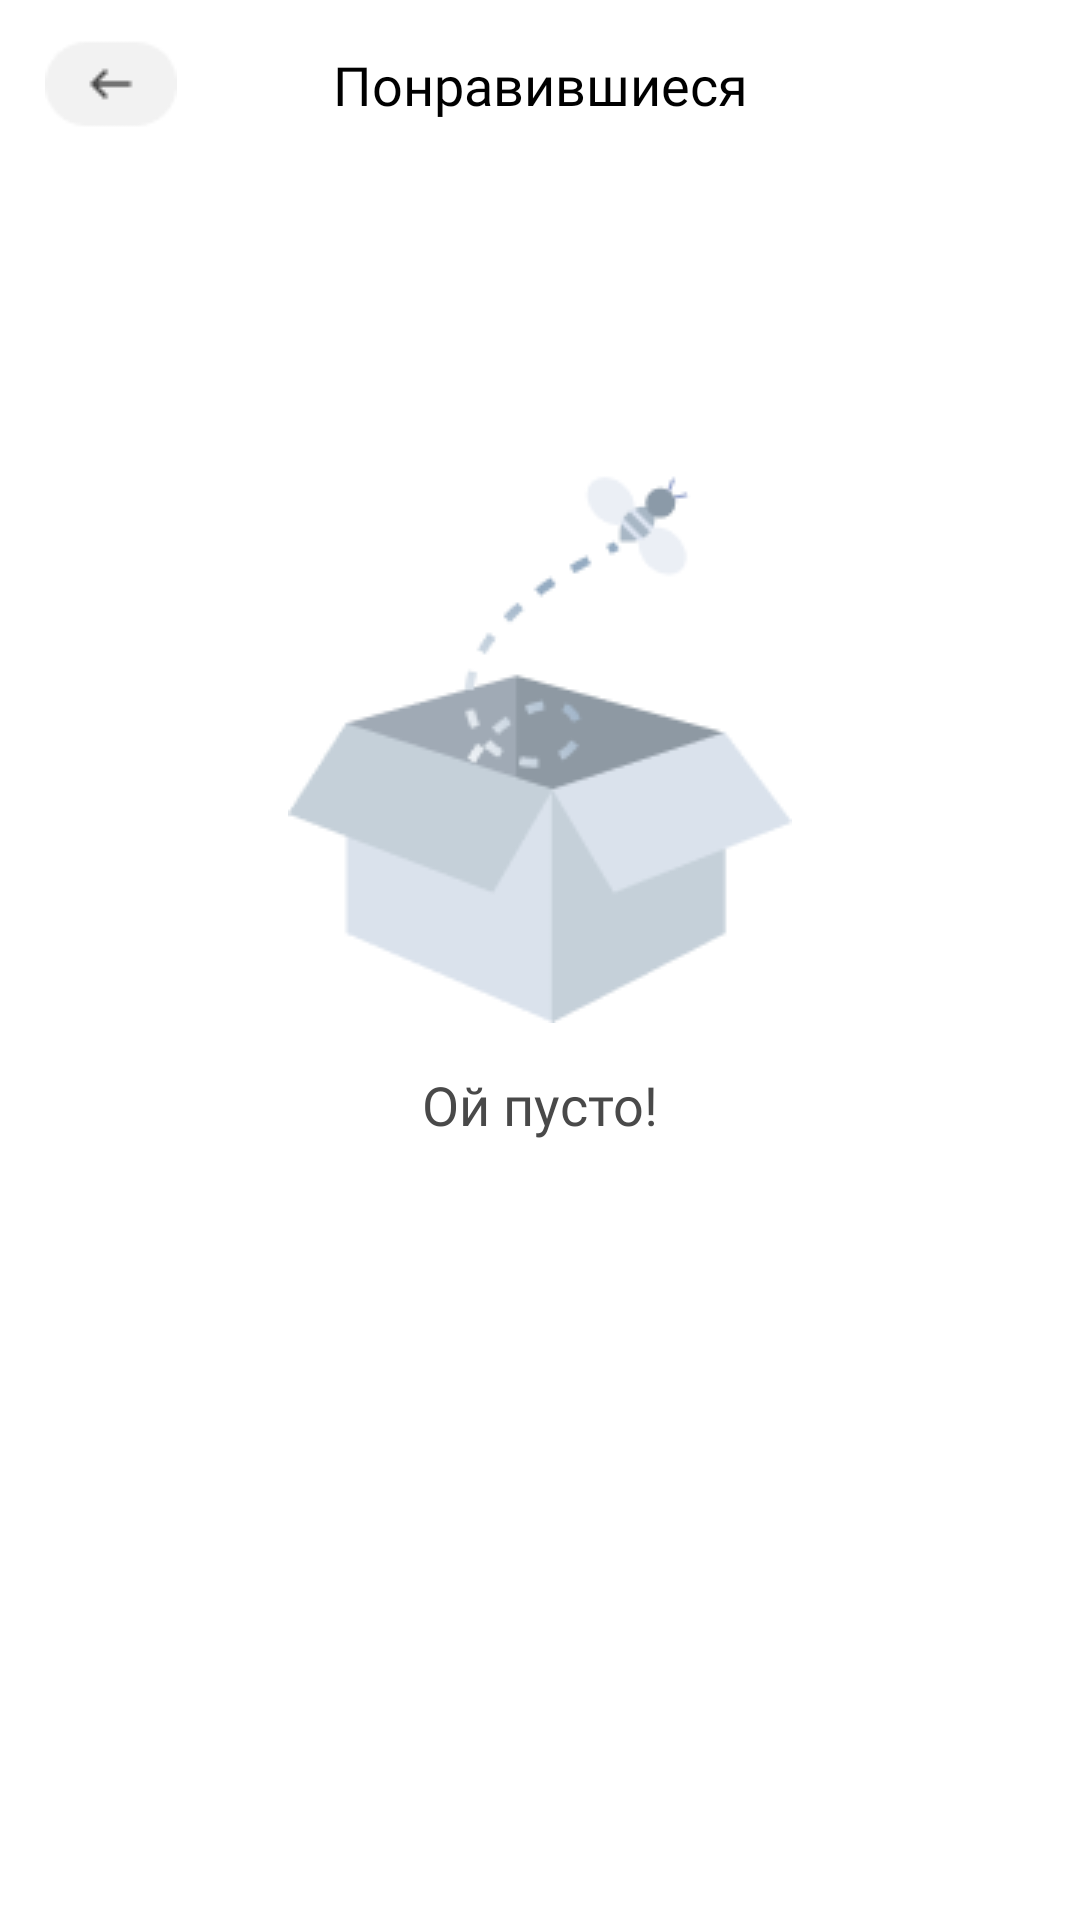

Named icons in this screenshot (1080x1920) and their centers, [x,y]:
back: [111,84]
